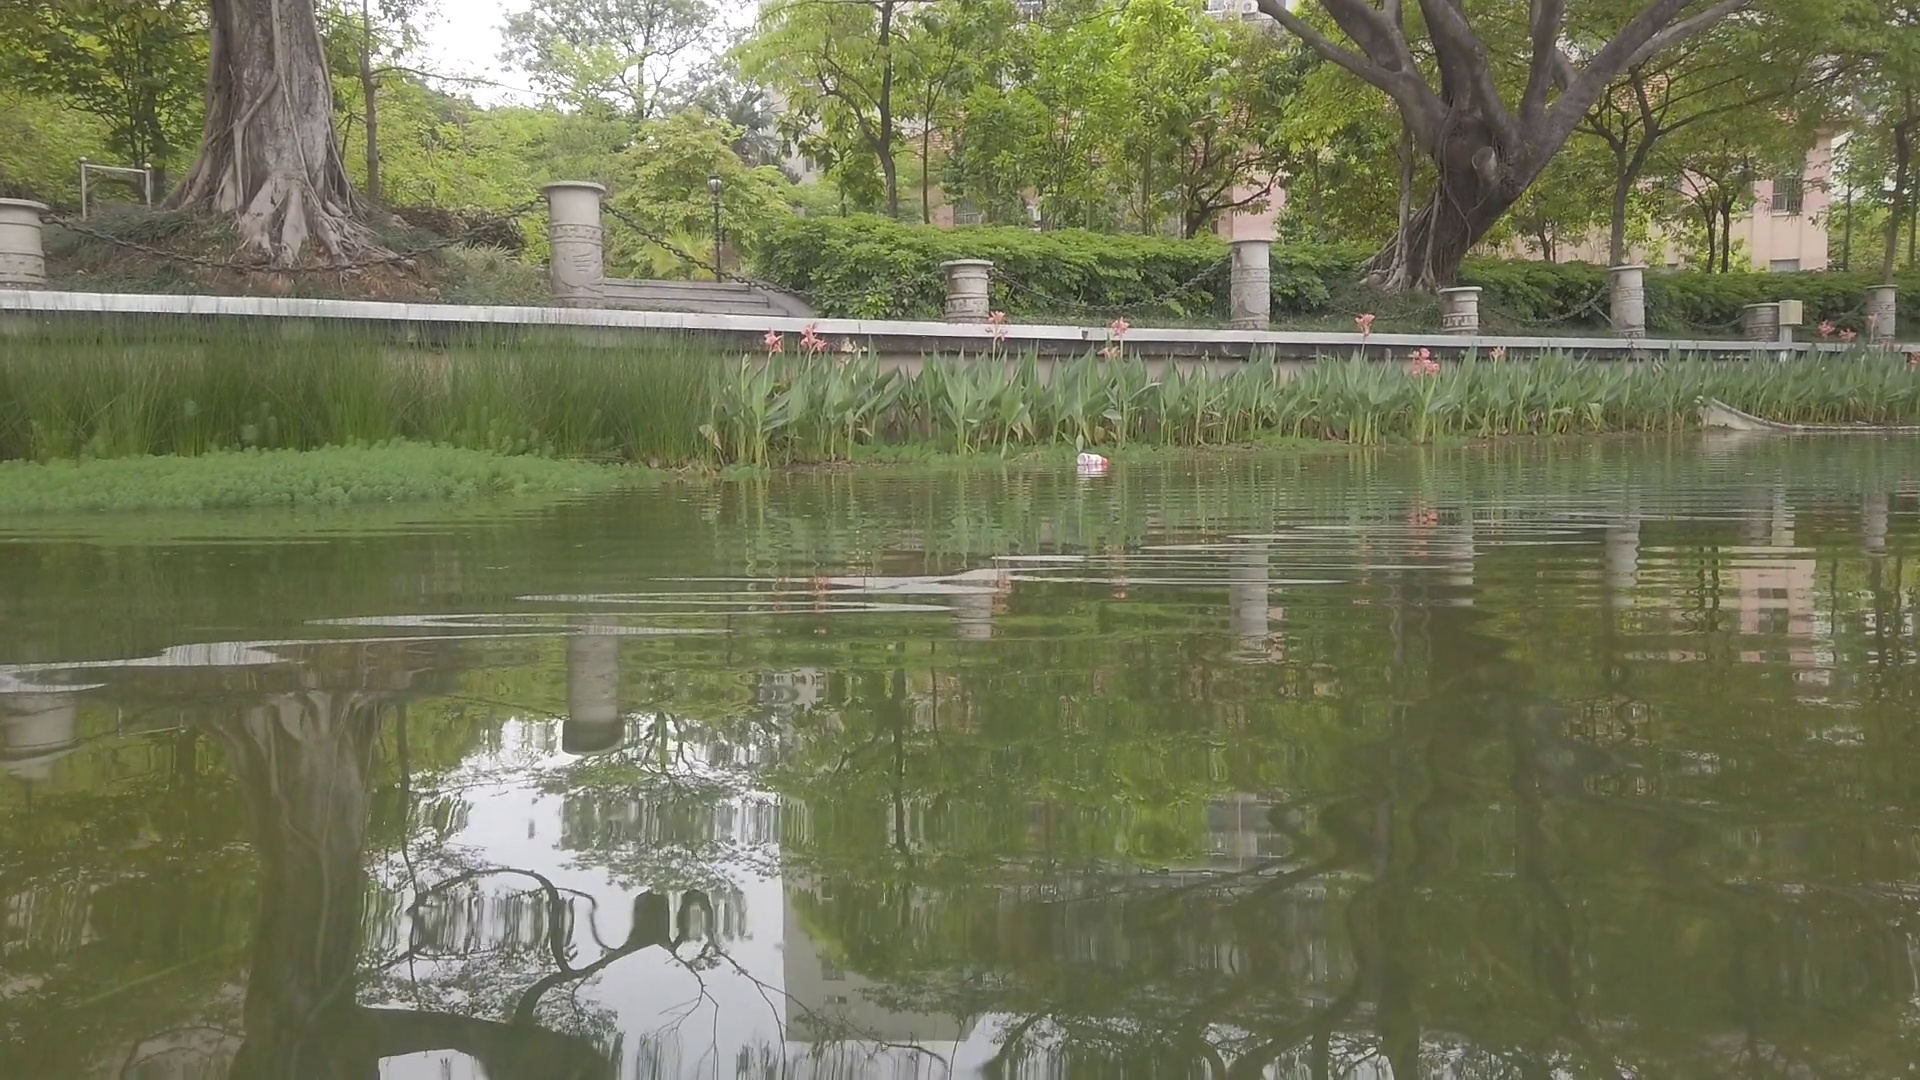bottle: (1077, 452, 1106, 465)
